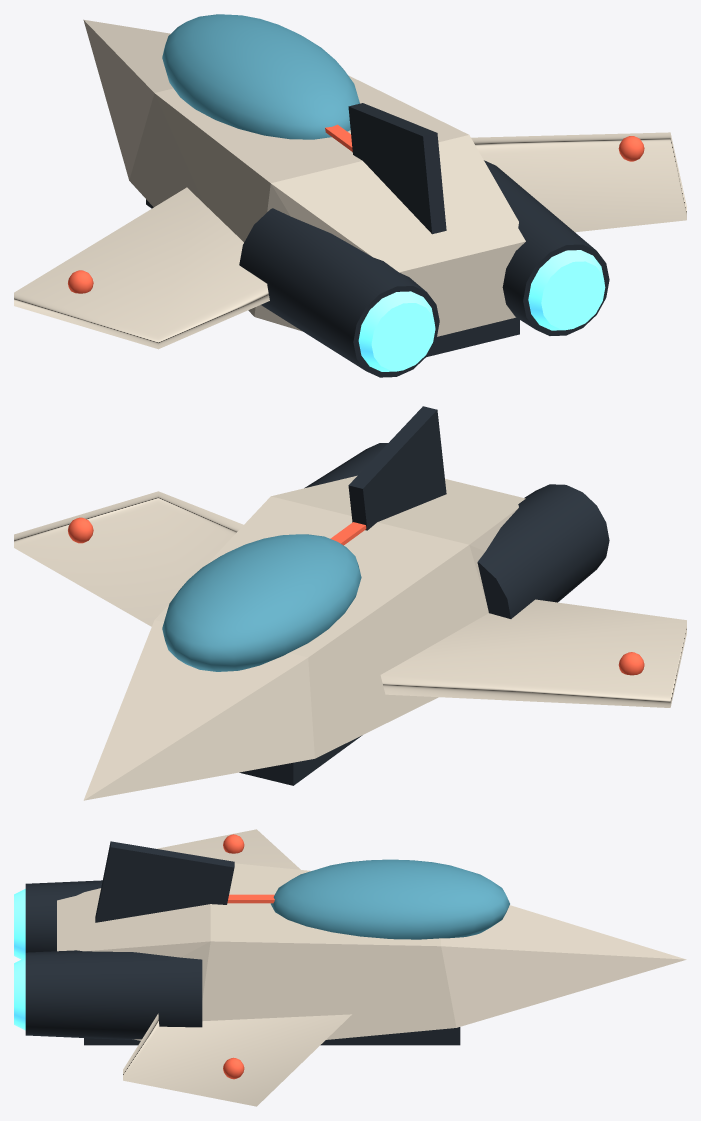
Rendered from travel-ship.glb.
3 views of the same model, one above another, from view 1: azimuth 30°, elevation 25°; view 2: azimuth 150°, elevation 25°; view 3: azimuth 270°, elevation 25° (orthographic). The views are drawn at different scales.
Visible parts, largest first — view 1: MainHull, LeftWing, CockpitCanopy, RightWing, LeftEngine, DorsalFin, RightEngine, LeftEngineGlow, RightEngineGlow, BellyArmor; view 2: MainHull, LeftWing, CockpitCanopy, RightWing, LeftEngine, DorsalFin, BellyArmor, RightEngine; view 3: MainHull, CockpitCanopy, RightEngine, RightWing, DorsalFin, LeftEngine, LeftWing, BellyArmor, RightEngineGlow, LeftEngineGlow, CenterAccent.
Boxes of the visible parts, x1,y1,x2,y2 form: MainHull: (83,19,525,336); LeftWing: (14,187,269,349); CockpitCanopy: (162,14,359,139); RightWing: (471,132,686,232); LeftEngine: (239,208,439,377); DorsalFin: (348,103,446,234); RightEngine: (484,160,609,335); LeftEngineGlow: (358,291,435,371); RightEngineGlow: (528,250,605,330); BellyArmor: (146,199,519,356); MainHull: (83,475,525,800); LeftWing: (380,599,686,707); CockpitCanopy: (162,534,361,671); RightWing: (14,491,243,626); LeftEngine: (477,484,609,618); DorsalFin: (348,406,446,530); BellyArmor: (239,735,362,785); RightEngine: (304,443,387,488); MainHull: (57,863,686,1040); CockpitCanopy: (270,859,509,939); RightEngine: (25,950,202,1040); RightWing: (123,1013,351,1106); DorsalFin: (95,841,234,922); LeftEngine: (25,880,102,952); LeftWing: (156,829,300,869); BellyArmor: (84,1027,460,1045); RightEngineGlow: (14,957,25,1030); LeftEngineGlow: (14,889,25,959); CenterAccent: (227,894,274,903).
Bounding box in the file's own units: 4.1 × 1.23 × 4.38.
